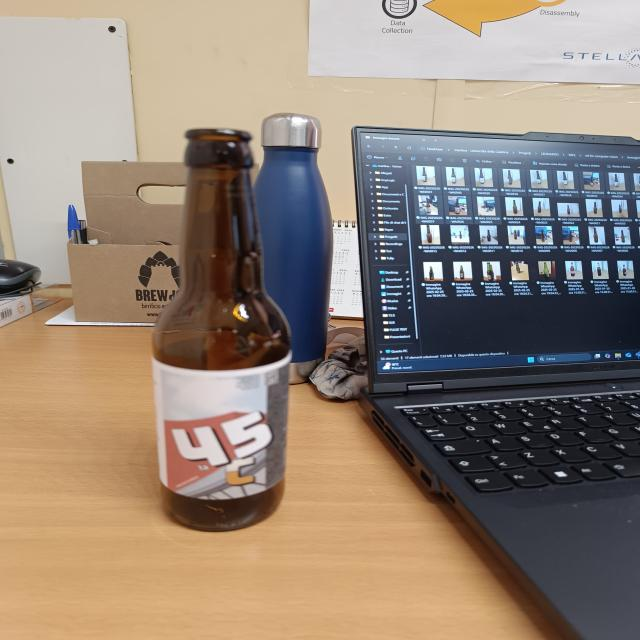Bottle: (144, 124, 284, 529)
Label: (148, 355, 288, 497)
